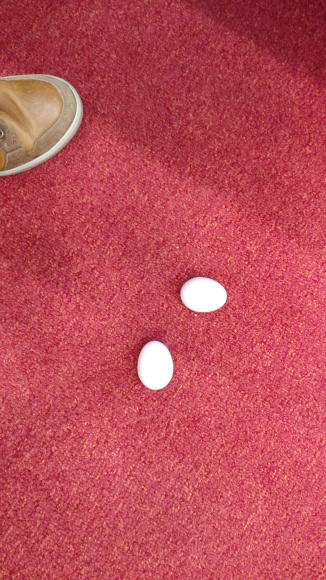egg: (137, 340, 175, 391), (179, 277, 228, 313)
